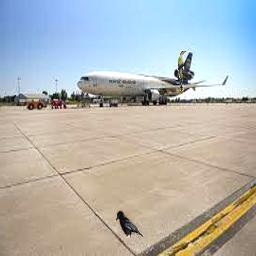Crow: (116, 210, 144, 238)
Cuckoo: (178, 51, 186, 91)
